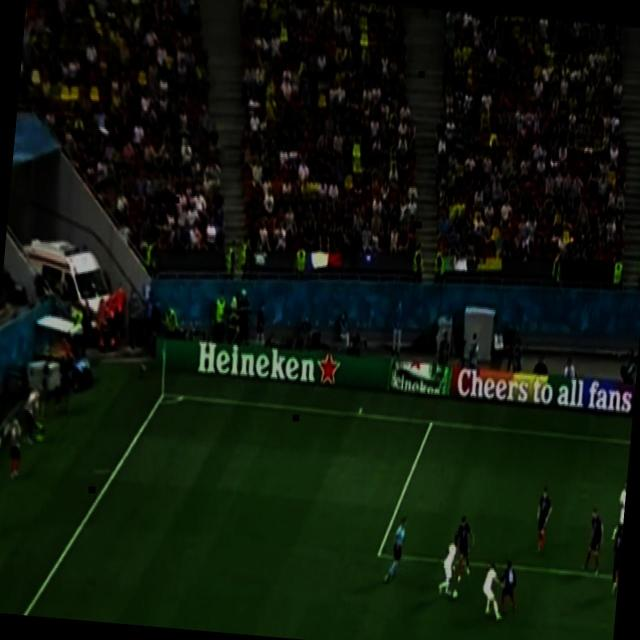ball: (450, 588, 460, 600)
player-white: (450, 514, 478, 586), (382, 513, 409, 587), (581, 508, 607, 578), (479, 561, 508, 623), (532, 486, 555, 556), (496, 558, 521, 616), (436, 533, 457, 599), (609, 480, 627, 553), (608, 522, 624, 597)
